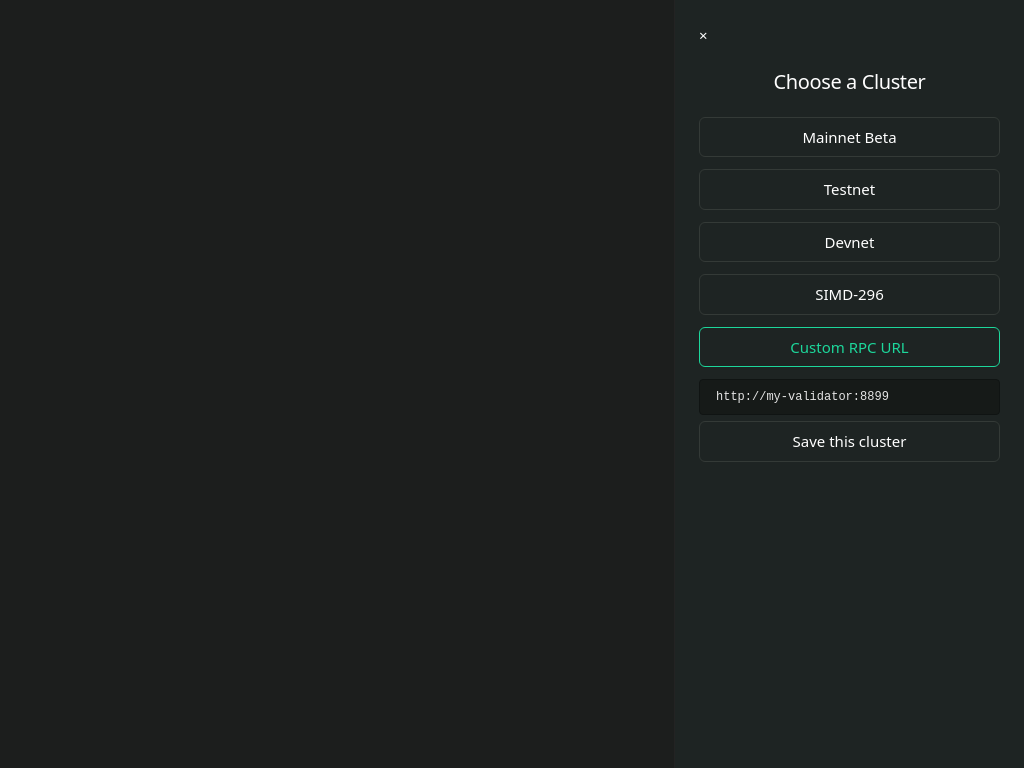
it: ClusterModal › should show an error when storage quota is exceeded
Click the button with test id "save-custom-cluster-btn": (850, 441) [699,421,1000,462]
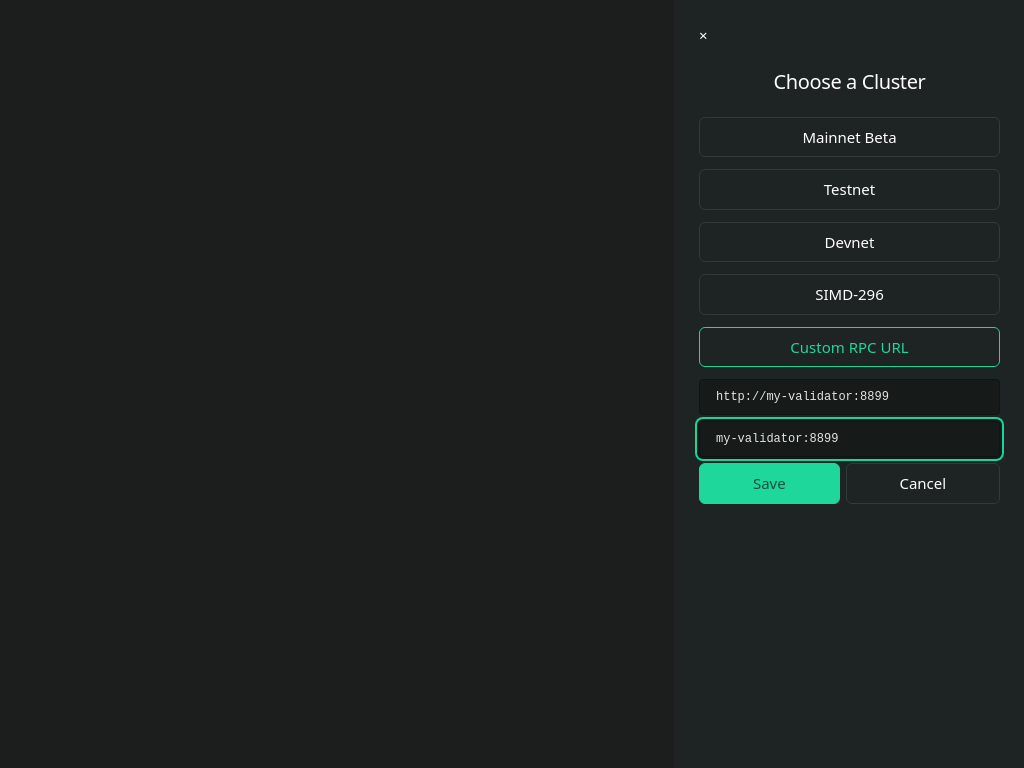
Replace the text in the field with test id "cluster-name-input" with "My Local": (850, 439) [699,421,1000,457]
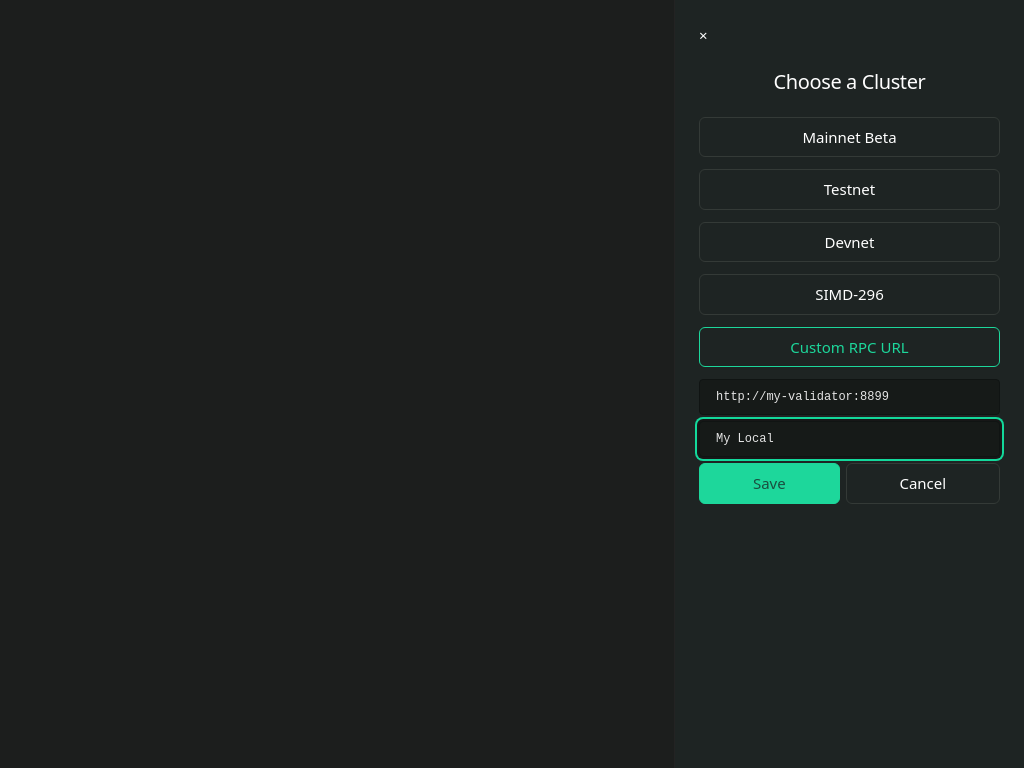
Click the button with test id "confirm-save-cluster-btn": (769, 483) [699,463,840,504]
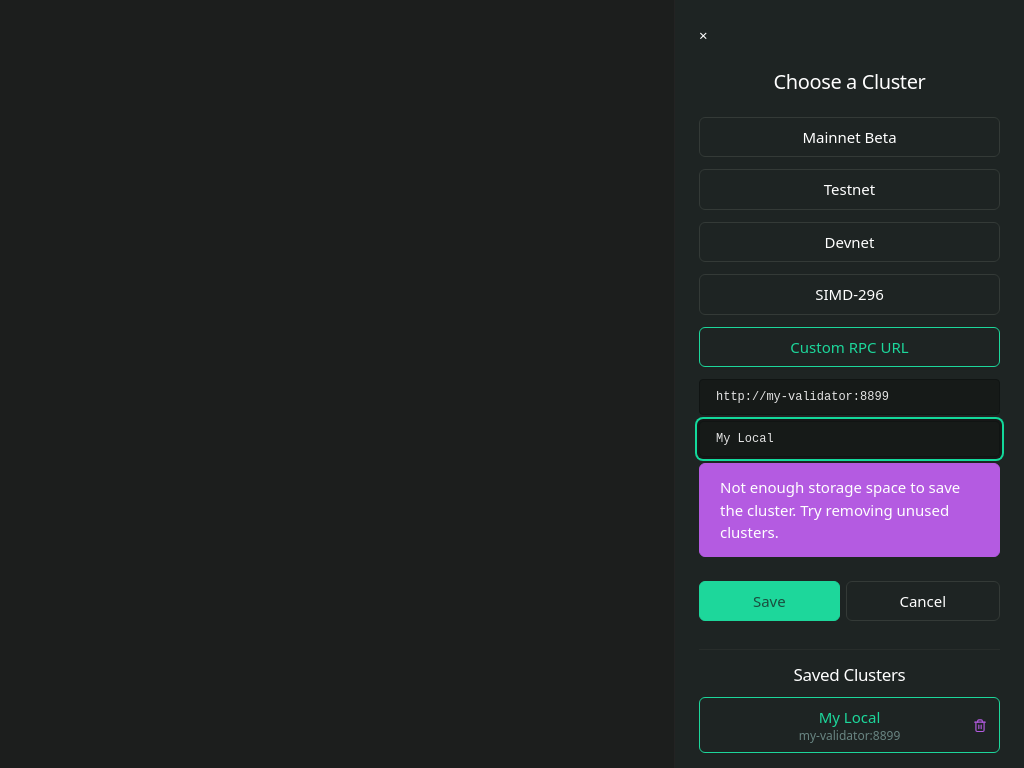
Now the message "Not enough storage space to save the cluster. Try removing unused clusters." is shown, box [699,463,1000,556]
